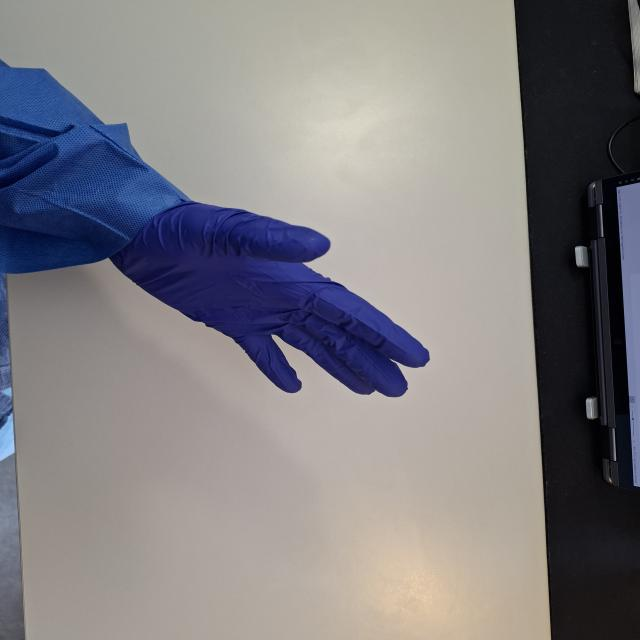glove_on: (111, 194, 433, 399)
